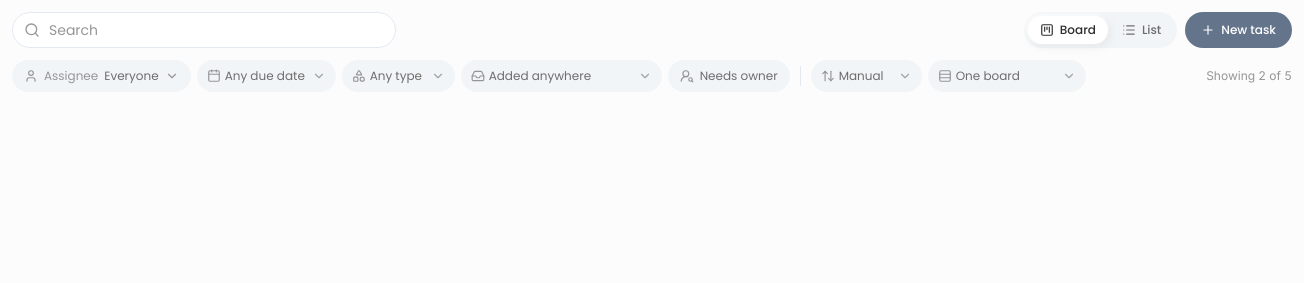
Test case: BoardToolbar › Assignee: tick people, Me and Unassigned; Everyone clears the list
Click the button "Assignee Everyone" at [101, 76], box [12,60,191,92]
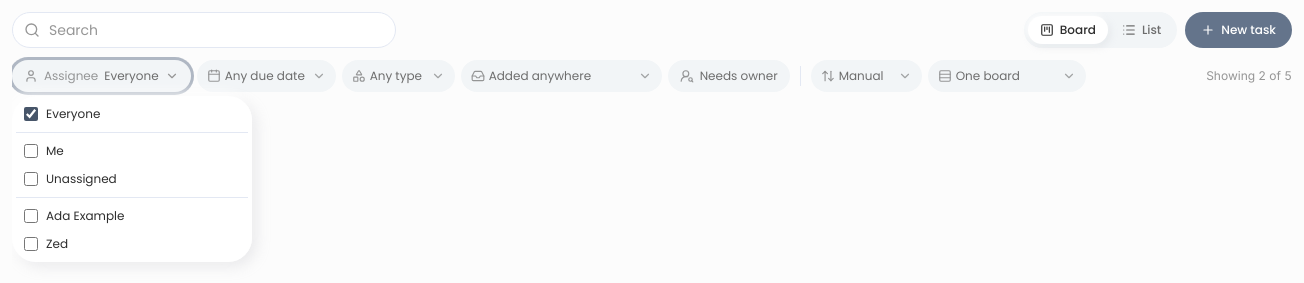
expect the button "Assignee Everyone" is expanded: met, box [12,60,191,92]
Click the checkbox labelled "Ada Example" at [31, 216], box [24,209,38,223]
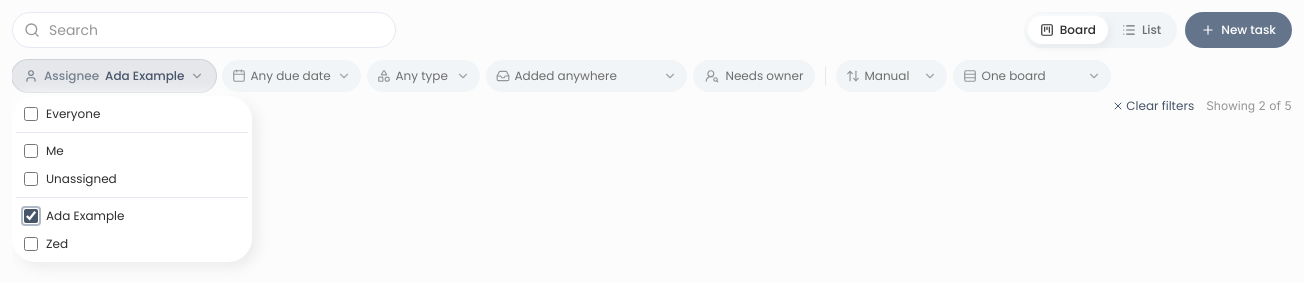
Click the checkbox labelled "Unassigned" at [31, 179], box [24,172,38,186]
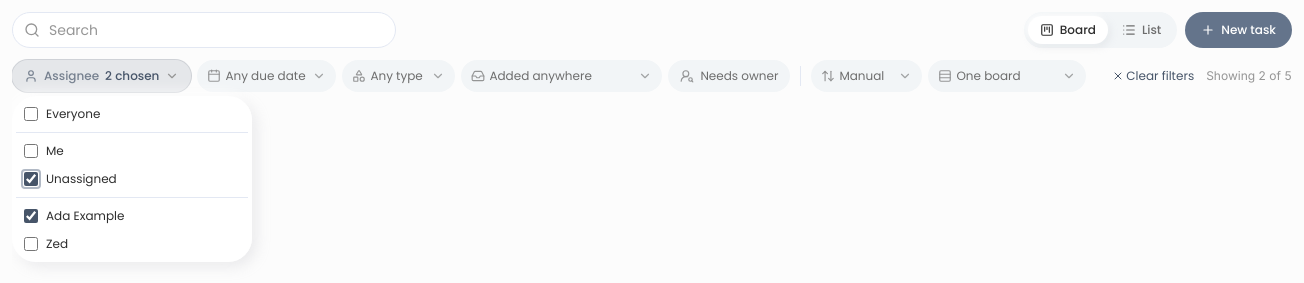
expect the button "Assignee 2 chosen" is shown: met, box [12,60,191,92]
Click the checkbox labelled "Everyone" at [31, 114], box [24,107,38,121]
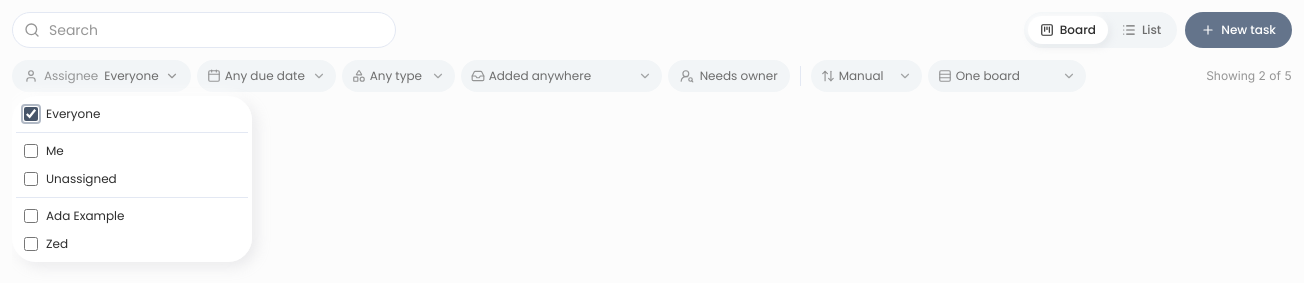
Press Escape
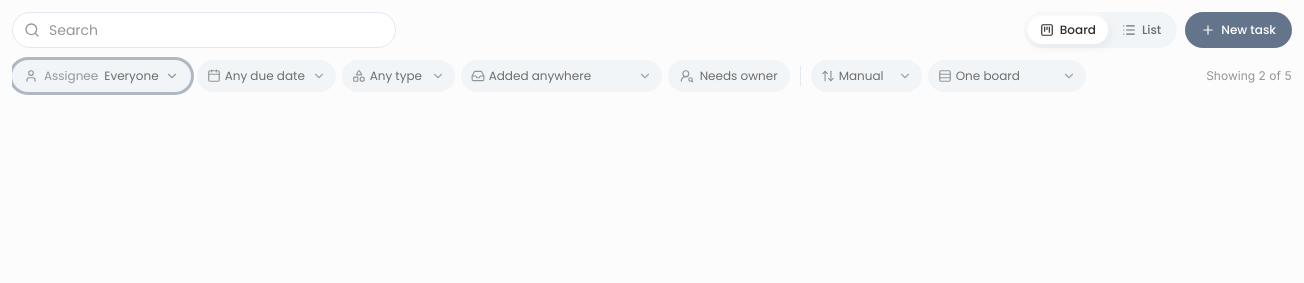
expect the button "Assignee Everyone" is collapsed: met, box [12,60,191,92]
